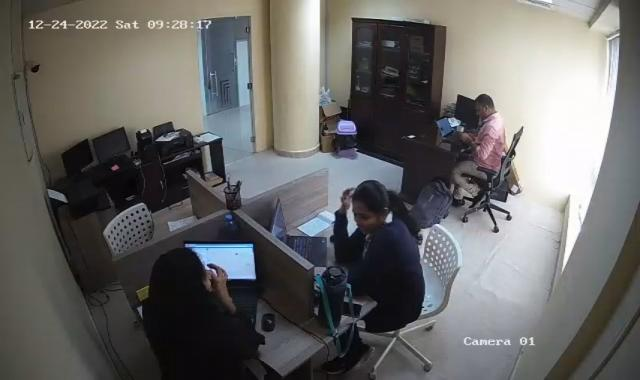no_hairnet: (156, 249, 214, 315), (351, 179, 392, 232), (474, 94, 498, 116)
